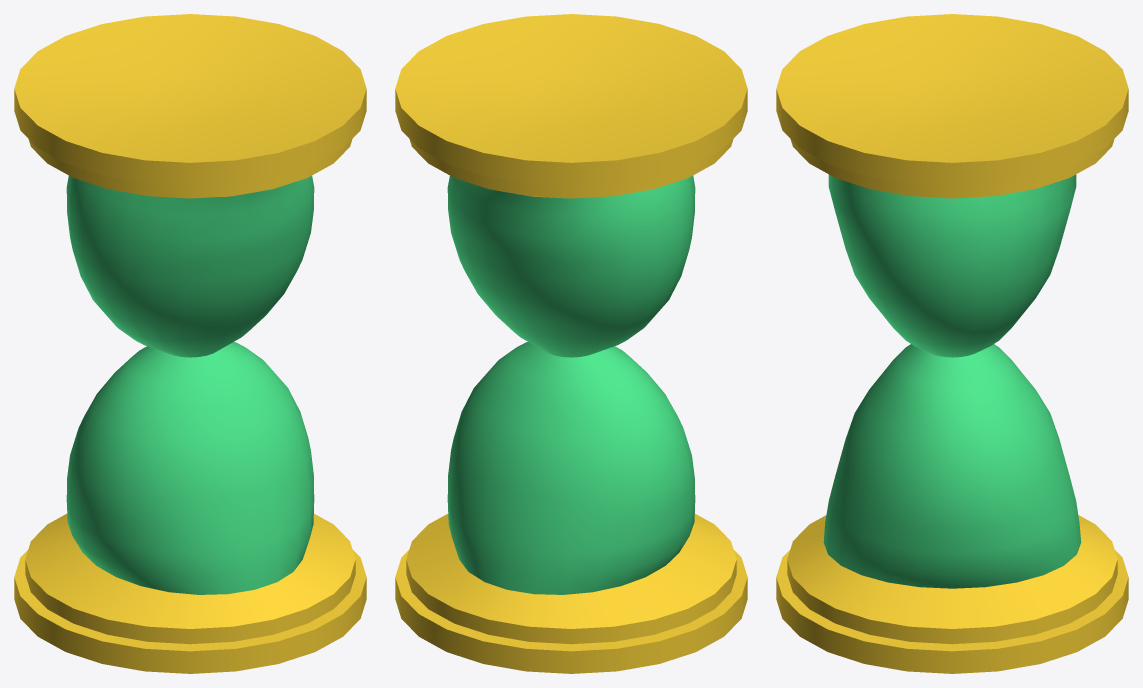
File: greenclock.fbx
The picture shows the model from 3 angles, left to right: view 1: azimuth 30°, elevation 25°; view 2: azimuth 150°, elevation 25°; view 3: azimuth 270°, elevation 25°; orthographic projection.
Visible parts, largest first — view 1: Sphere.008; view 2: Sphere.008; view 3: Sphere.008.
Boxes of the visible parts, x1,y1,x2,y2 form: Sphere.008: [14, 14, 366, 673]; Sphere.008: [395, 14, 747, 673]; Sphere.008: [776, 14, 1128, 673].
Bounding box in the file's own units: 0.3965 × 0.6346 × 0.3965.
